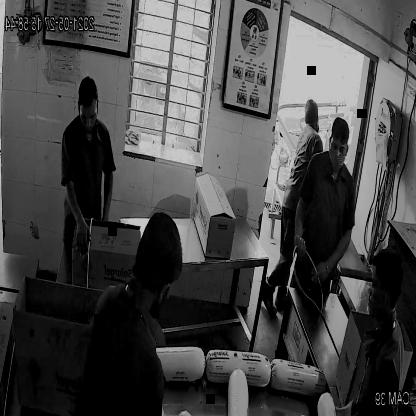no_goggles: (324, 136, 355, 160), (76, 105, 101, 126)
